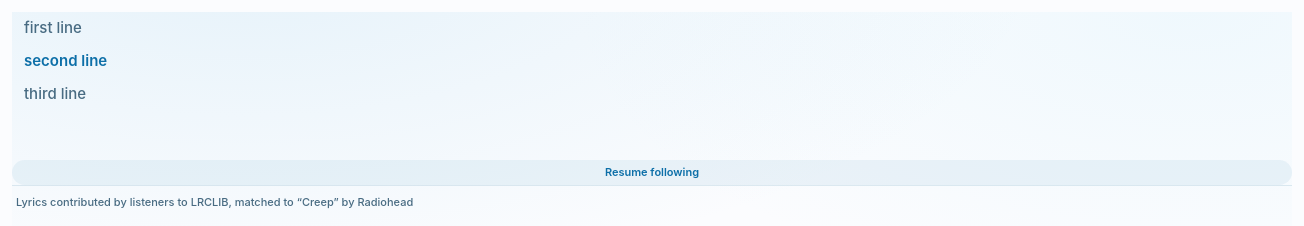
LyricsPanel › stops following after the reader scrolls, and offers to resume
Expected: the button "first line" is shown, [16, 12, 1288, 45]
Click the button "Resume following" at (652, 172), box [12, 160, 1292, 184]
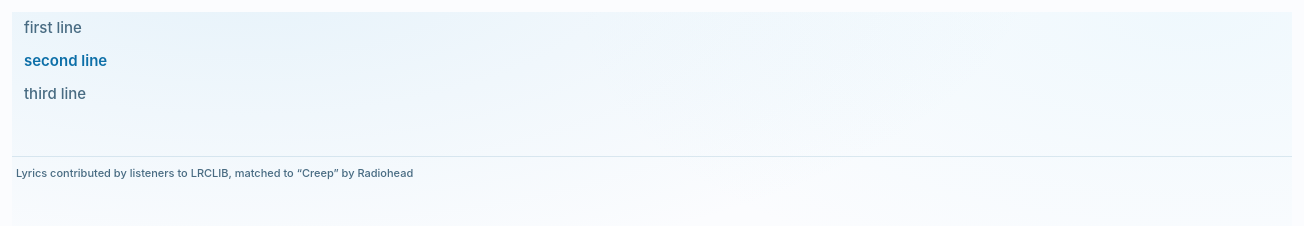
Result: the button "Resume following" is gone
